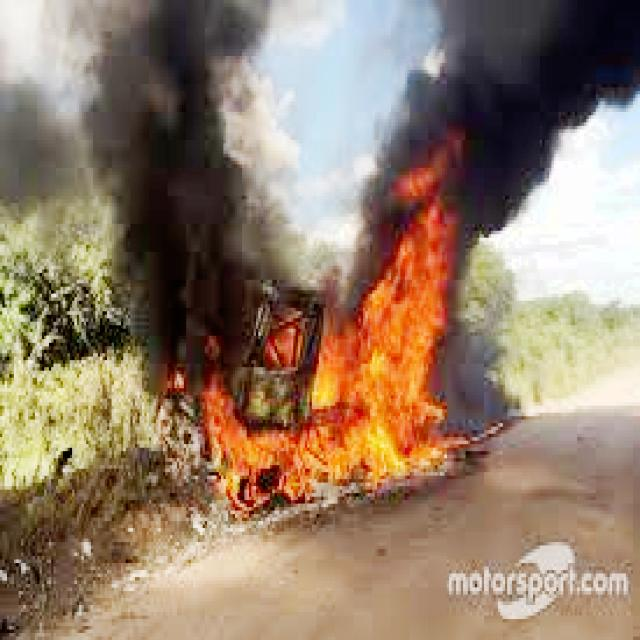api: (325, 176, 474, 497), (166, 337, 322, 512)
